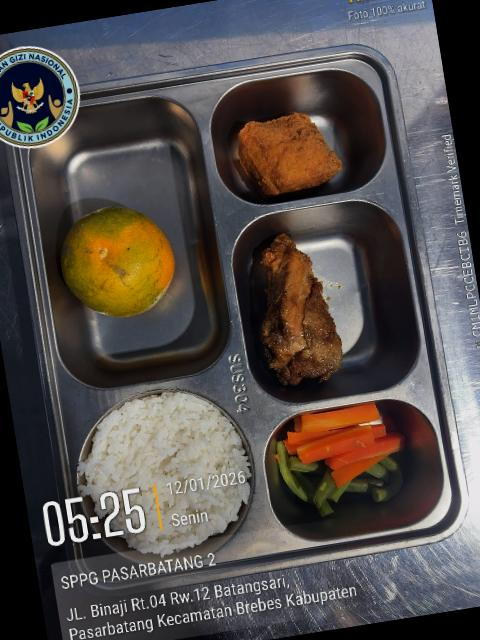ayam: (261, 234, 343, 385)
buah: (61, 207, 175, 317)
nasi: (78, 393, 250, 557)
sayur: (267, 402, 421, 539)
tahu: (238, 113, 341, 199)
